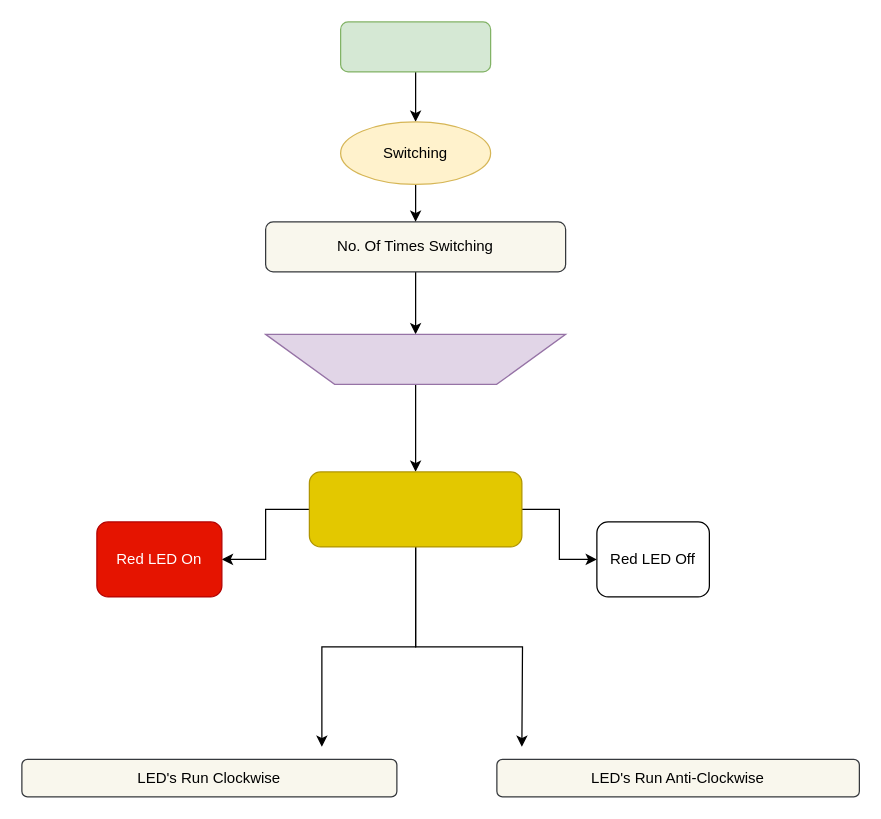
Some shapes in this 881 by 819 pixel diagram are drawn without their labels. Each missing label, with the box of its shape:
Conditions: (308, 471, 522, 547)
Encription: (264, 333, 566, 384)
Start: (339, 21, 491, 72)
